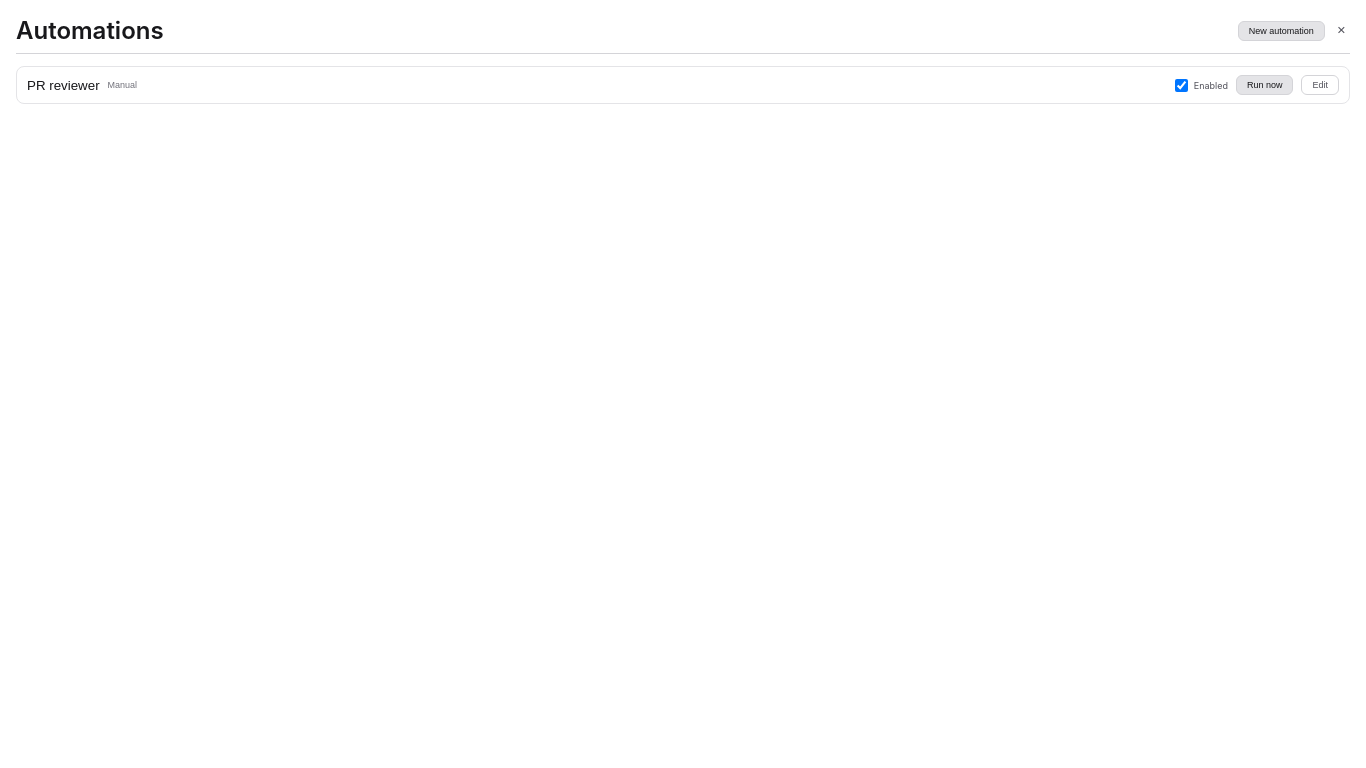
AutomationsPanel › form overlay › Cancel returns to the list without saving
Step 1. Click the button with test id "automation-new" → (1281, 30), box [1238,20,1325,40]
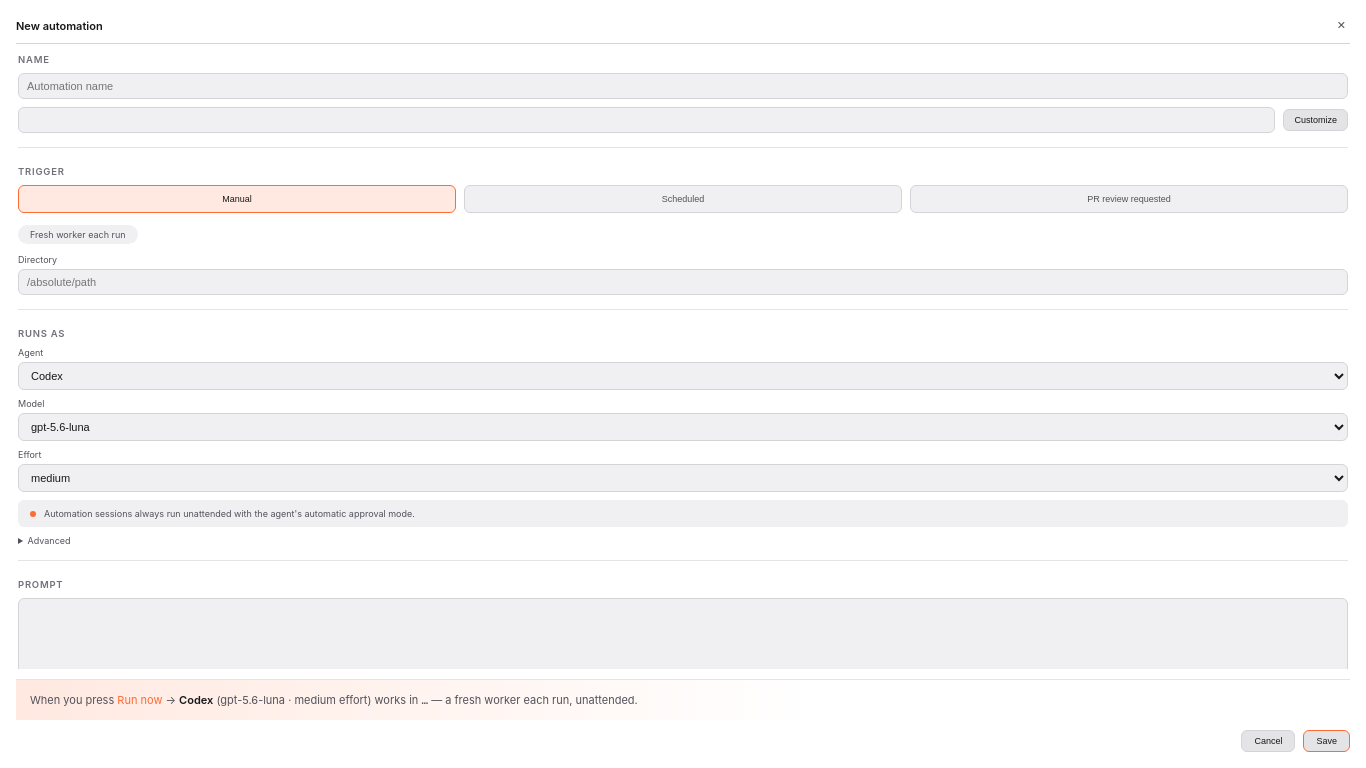
Check: the form with test id "automation-form" is shown
Step 2. Click the button with test id "automation-form-cancel" → (1268, 741), box [1242,730,1296,752]
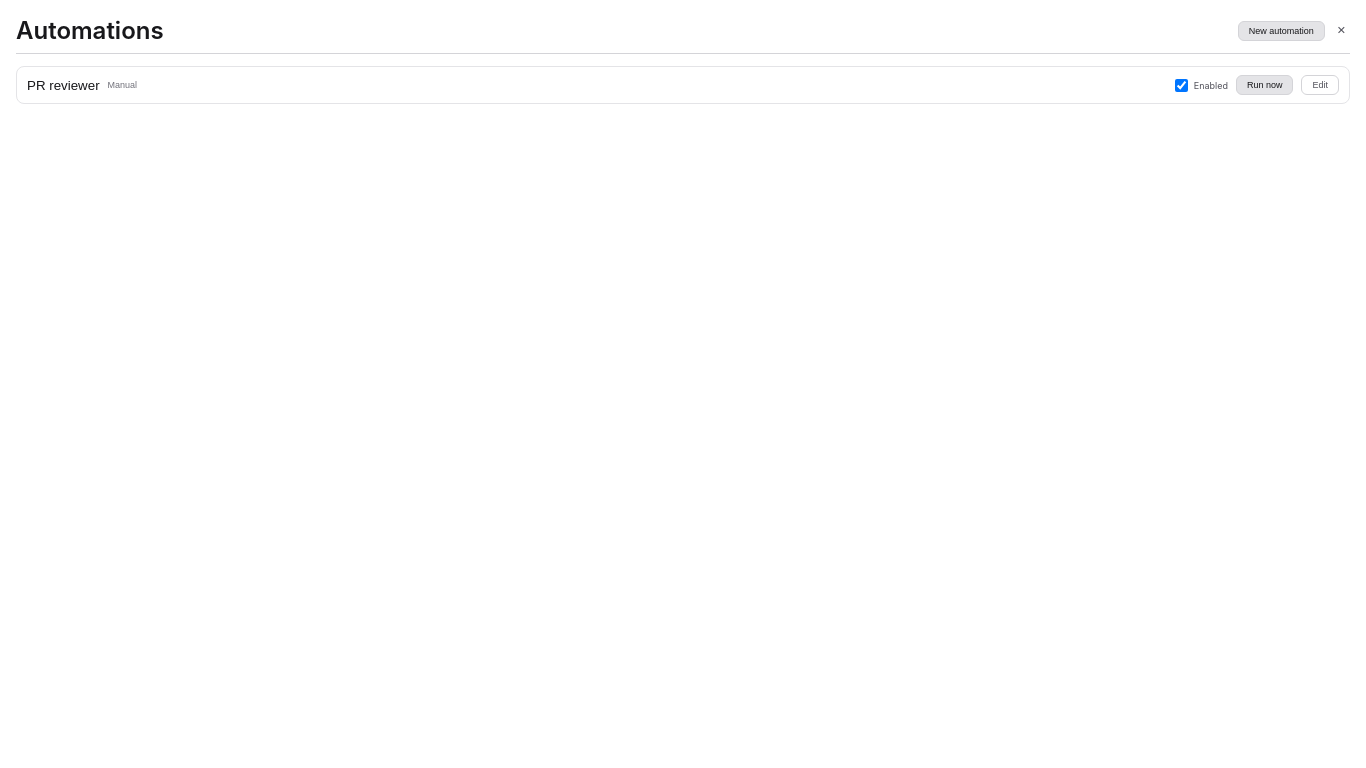
Check: the form with test id "automation-form" is gone
Check: the list with test id "automations-panel-list" is shown, box [16,66,1350,104]
